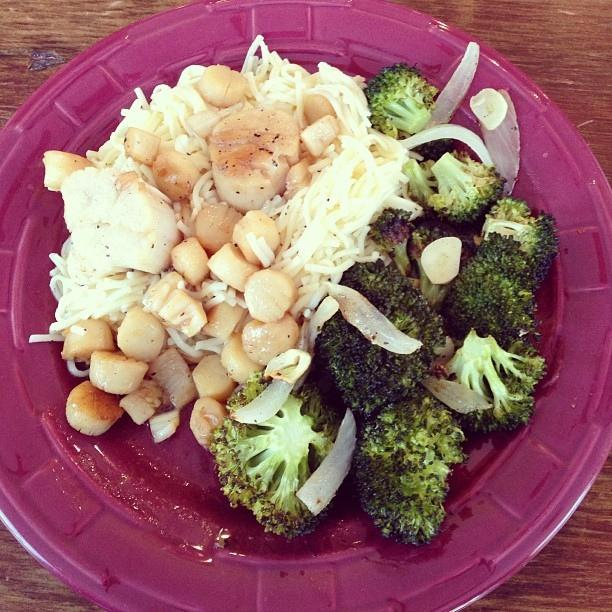broccoli: (304, 259, 446, 430), (208, 371, 342, 538), (354, 396, 470, 544), (435, 232, 535, 352), (432, 331, 546, 433), (481, 196, 560, 292), (428, 152, 508, 226), (364, 62, 438, 140)
onion: (228, 317, 310, 424), (295, 408, 357, 516), (326, 284, 421, 354), (419, 42, 479, 132), (396, 124, 496, 167), (483, 90, 520, 196), (422, 376, 494, 414), (420, 236, 462, 284)
